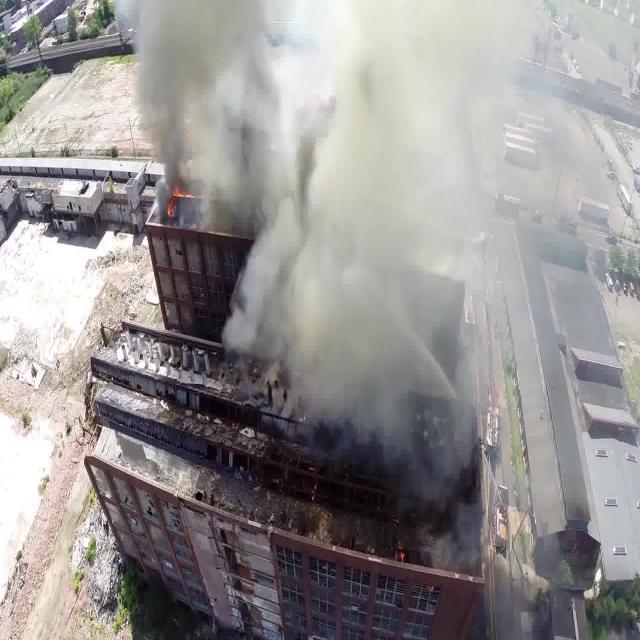Fire: (163, 182, 201, 224)
Smoke: (120, 1, 533, 474)
